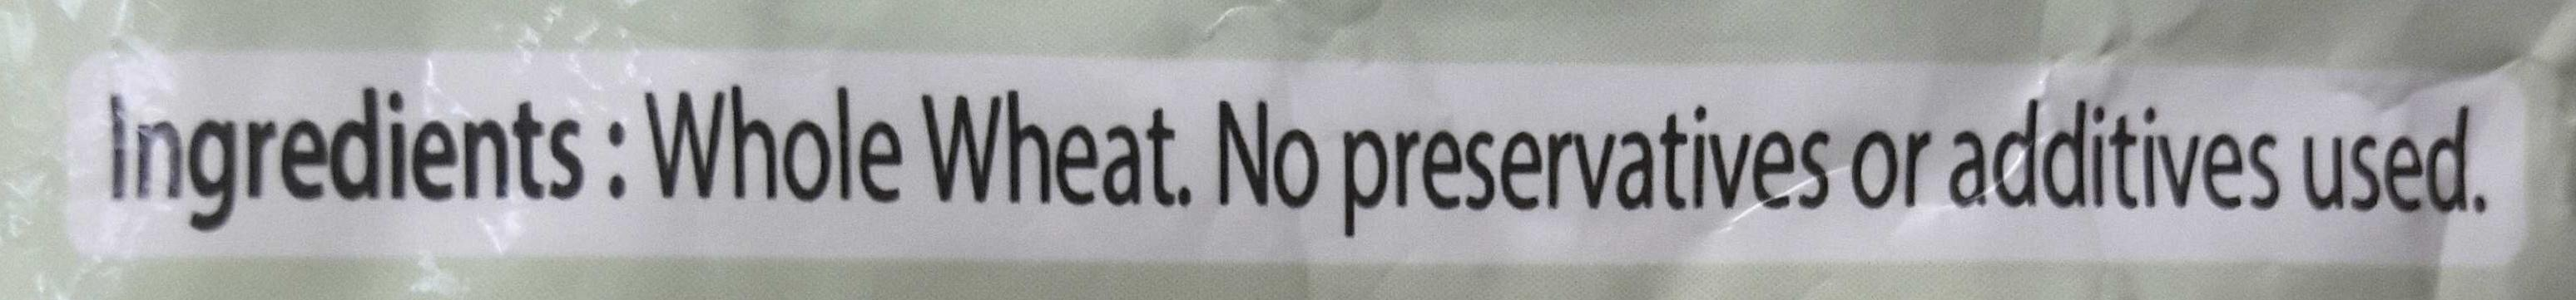ingredients: (44, 48, 2527, 272)
